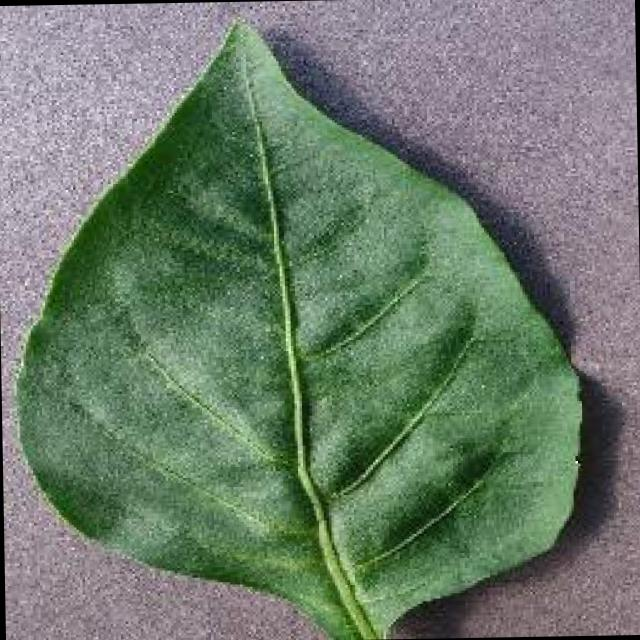Chilli_Healthy: (4, 8, 587, 640)
